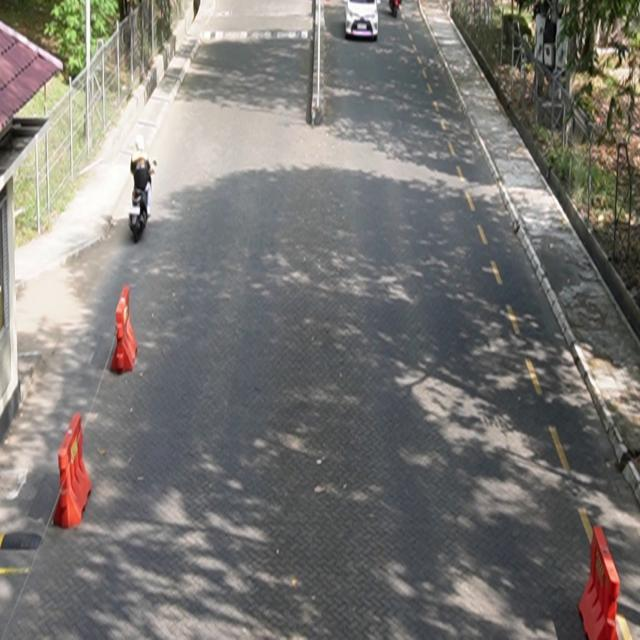car: (346, 1, 381, 42)
